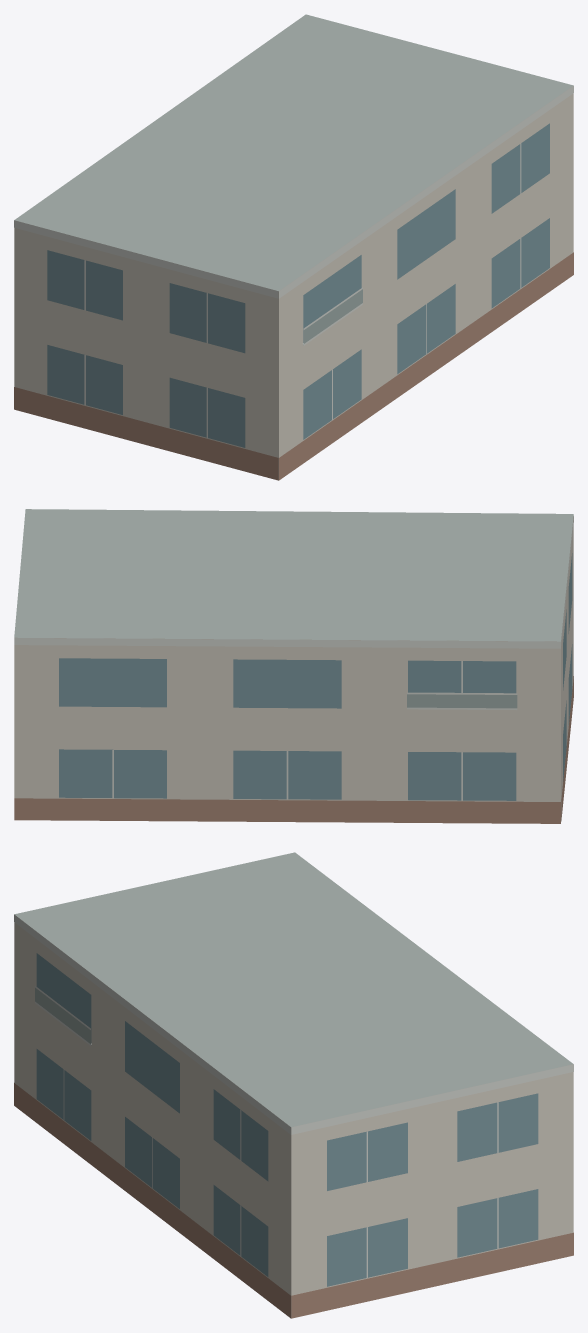
File: survey-upis-32740899.glb
The picture shows the model from 3 angles, top to bottom: view 1: azimuth 30°, elevation 25°; view 2: azimuth 150°, elevation 25°; view 3: azimuth 270°, elevation 25°; orthographic projection. The views are drawn at different scales.
Parts seen in each view (by area): view 1: survey-upis-32740899.tmp; view 2: survey-upis-32740899.tmp; view 3: survey-upis-32740899.tmp.
Part boxes in pixels (bbox=[...]): survey-upis-32740899.tmp: bbox=[14, 14, 573, 480]; survey-upis-32740899.tmp: bbox=[14, 509, 573, 823]; survey-upis-32740899.tmp: bbox=[14, 852, 573, 1318].
Size of the model in its own units: 18.82 by 6.1 by 16.19.
